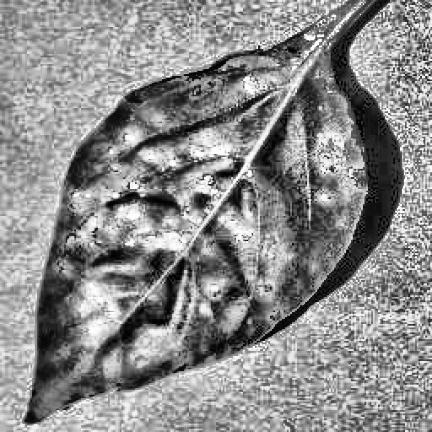leaf: (27, 0, 371, 420)
